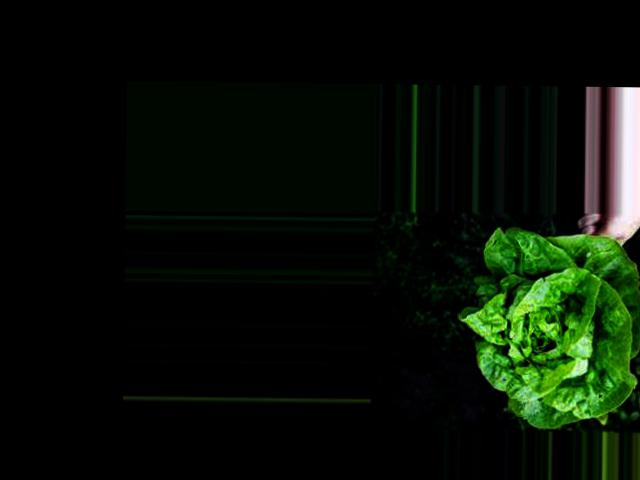lettuce: (488, 247, 630, 406)
